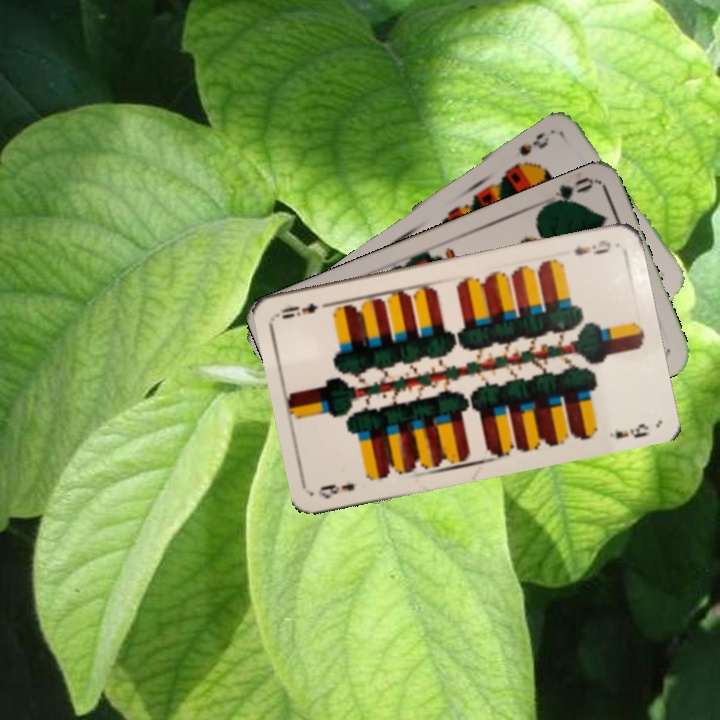E9: (570, 236, 614, 258), (314, 479, 357, 501)
GO: (540, 173, 595, 210)
S9: (509, 128, 552, 171)
